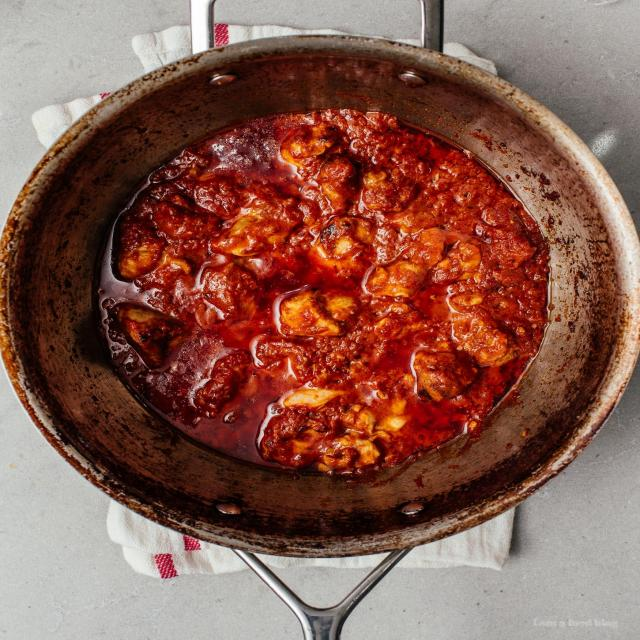chicken: (97, 122, 517, 476)
